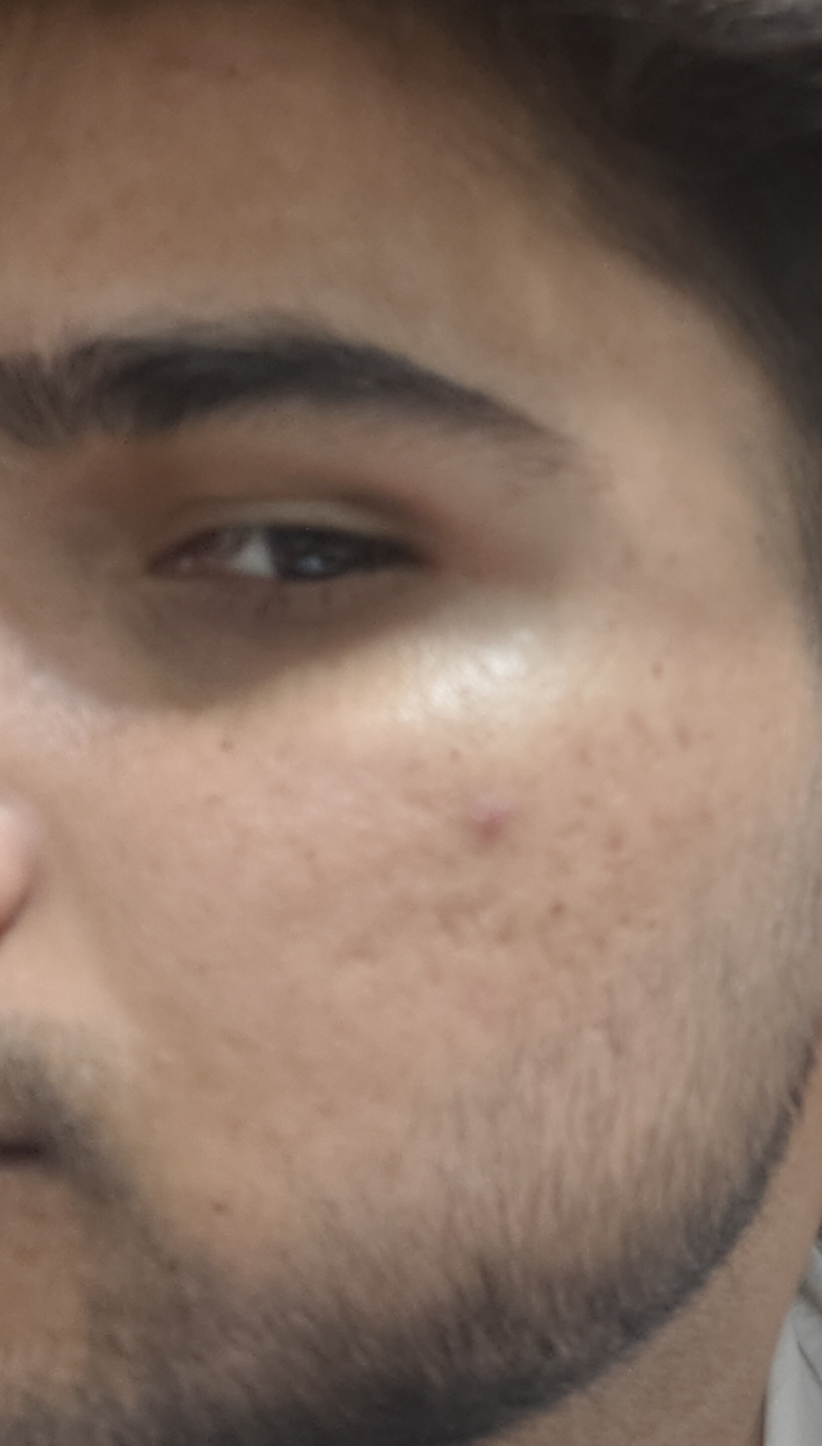papule: (450, 775, 520, 864)
